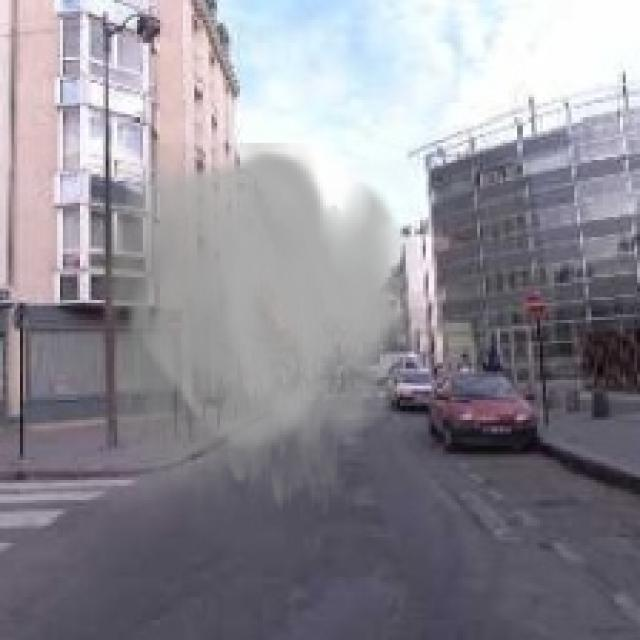smoke: (80, 143, 426, 557)
